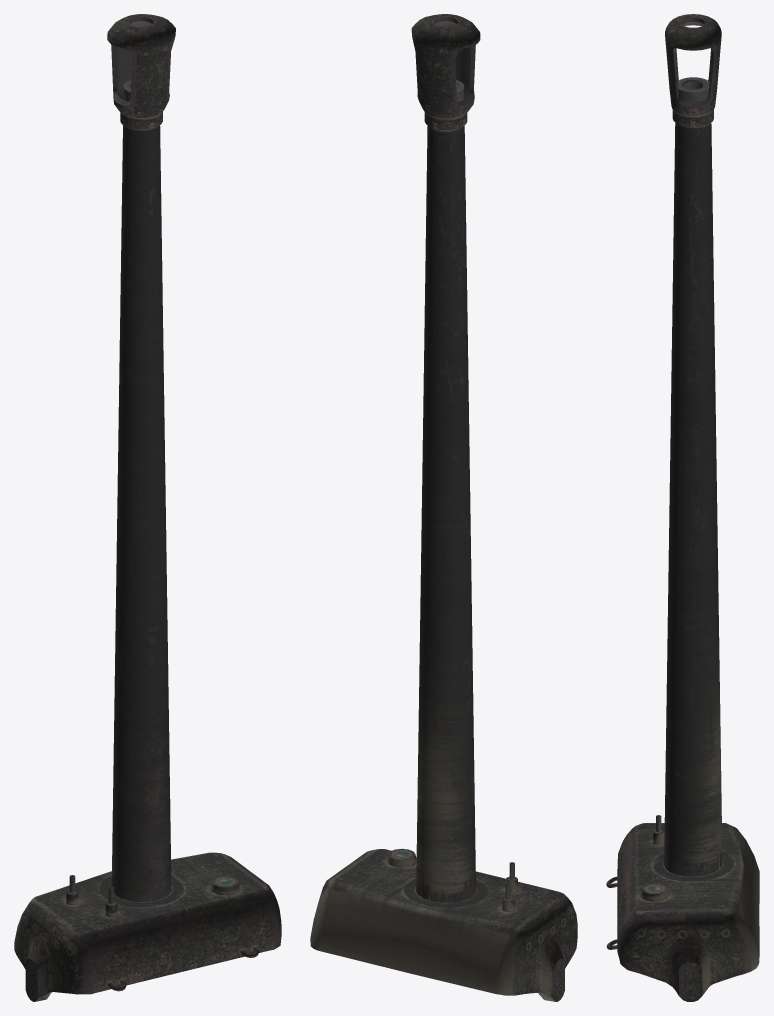
Rendered from Gun_01.glb.
3 views of the same model, side by side, from view 1: azimuth 30°, elevation 25°; view 2: azimuth 150°, elevation 25°; view 3: azimuth 270°, elevation 25° (orthographic). The views are drawn at different scales.
Parts seen in each view (by area): view 1: set_0_group_0; view 2: set_0_group_0; view 3: set_0_group_0.
Part boxes in pixels (x1,y1,x2,y2): set_0_group_0: (14, 14, 281, 1001); set_0_group_0: (310, 14, 577, 1001); set_0_group_0: (606, 14, 759, 1001).
Size of the model in its own units: 1.54 by 6.05 by 0.9116.
Materials: 1 (1 with a texture image).
